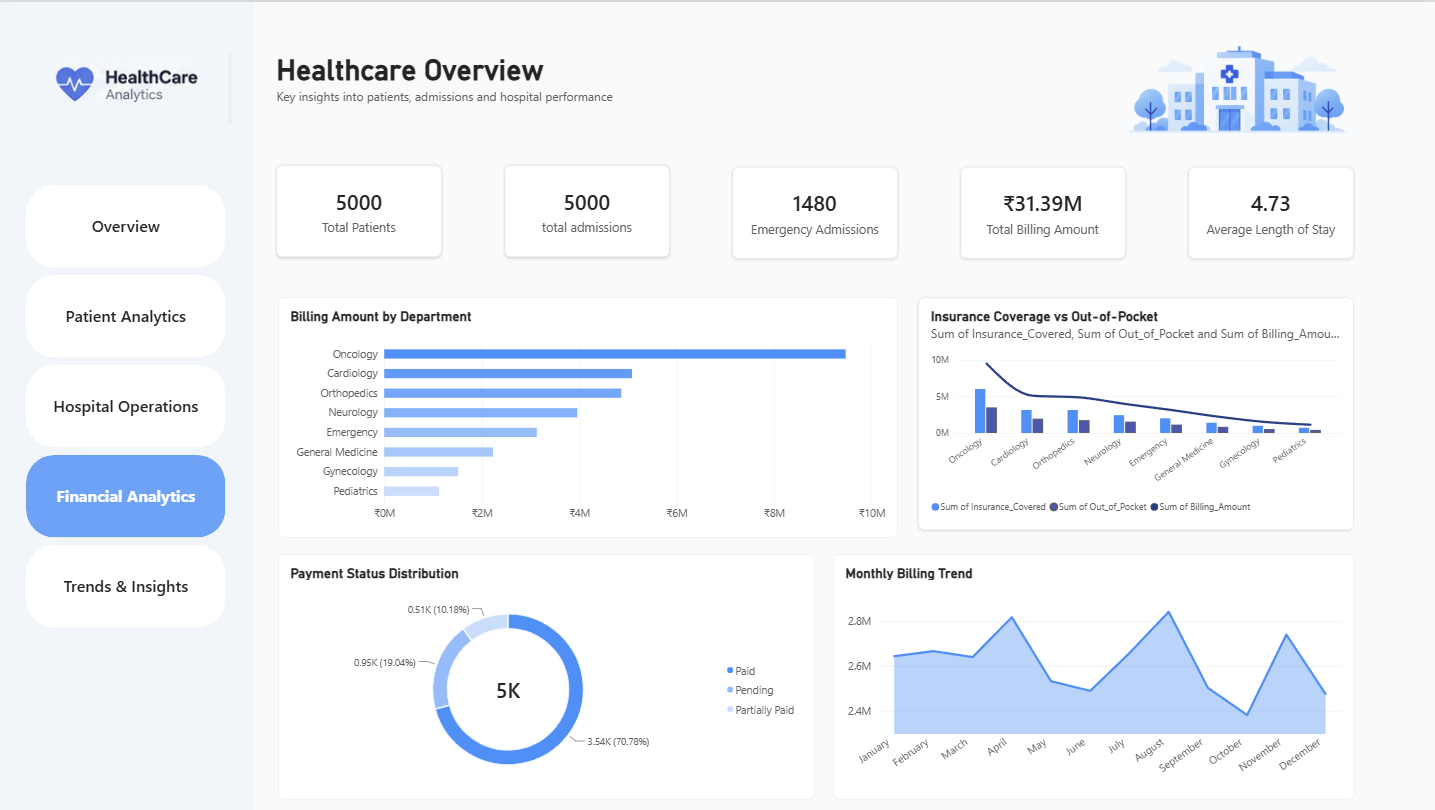

Layout of this report page (visuals, bound fields, positions):
{"tool":"powerbi","page":{"name":"Financial Analytics","canvas":[1920,1080],"ordinal":3},"visuals":[{"type":"card","fields":{"Values":["healthcare_dataset_clean.Total Patients"]},"box":[370,217.5,220,122],"z":0,"group":"g1"},{"type":"textbox","title":"Healthcare Overview","box":[370,68,550,150],"z":1000,"group":"g1"},{"type":"card","fields":{"Values":["healthcare_dataset_clean.Average Length of Stay"]},"box":[1585,220,220,122],"z":2000,"group":"g1"},{"type":"card","fields":{"Values":["healthcare_dataset_clean.Total Billing Amount"]},"box":[1281.2,220,220,122],"z":3000,"group":"g1"},{"type":"card","fields":{"Values":["healthcare_dataset_clean.total admissions"]},"box":[673.8,217.5,220,122],"z":4000,"group":"g1"},{"type":"card","fields":{"Values":["healthcare_dataset_clean.Emergency Admissions"]},"box":[977.5,220,220,122],"z":5000,"group":"g1"},{"type":"image","box":[1453.3,40,397.5,150],"z":6000,"group":"g1"},{"type":"clusteredBarChart","title":"Billing Amount by Department","fields":{"Category":["healthcare_dataset_clean.Department"],"Y":["healthcare_dataset_clean.Total Billing Amount"]},"box":[372,394,826.7,320],"z":7000,"group":"g1"},{"type":"shape","box":[0,0,340,1080],"z":8000,"group":"g1"},{"type":"lineClusteredColumnComboChart","title":"Insurance Coverage vs Out-of-Pocket","fields":{"Category":["healthcare_dataset_clean.Department"],"Y":["Sum(healthcare_dataset_clean.Insurance_Covered)","Sum(healthcare_dataset_clean.Out_of_Pocket)"],"Y2":["Sum(healthcare_dataset_clean.Billing_Amount)"]},"box":[1226.7,393.3,580,310],"z":9000,"group":"g1"},{"type":"donutChart","title":"Payment Status Distribution","fields":{"Y":["CountNonNull(healthcare_dataset_clean.Patient_ID)"],"Category":["healthcare_dataset_clean.Payment_Status"]},"box":[372.5,735,715,327.5],"z":11000,"group":"g1"},{"type":"lineChart","title":"Monthly Billing Trend","fields":{"Category":["healthcare_dataset_clean.Admission_Date.Variation.Date Hierarchy.Month"],"Y":["Sum(healthcare_dataset_clean.Billing_Amount)"]},"box":[1112.5,735,695,327.5],"z":12000,"group":"g1"},{"type":"image","box":[60,40,250,150],"z":13000,"group":"g1"},{"type":"textbox","box":[142,262,108,42],"z":14000,"group":"g1"},{"type":"pageNavigator","box":[36.7,243.3,266.7,590],"z":15000,"group":"g1"},{"type":"group","id":"g1","title":"Group 1","box":[0,0,1850.8,1080],"z":15001}]}

Visuals, with their boxes on the page's 1920x1080 design canvas (x1, y1, x2, y2). These are canvas units, not pixel positions in the 1435x810 screenshot, which may show the page scaled, cropped or inside an application window:
card - healthcare_dataset_clean.Total Patients: box(370, 218, 590, 340)
"Healthcare Overview" textbox: box(370, 68, 920, 218)
card - healthcare_dataset_clean.Average Length of Stay: box(1585, 220, 1805, 342)
card - healthcare_dataset_clean.Total Billing Amount: box(1281, 220, 1501, 342)
card - healthcare_dataset_clean.total admissions: box(674, 218, 894, 340)
card - healthcare_dataset_clean.Emergency Admissions: box(978, 220, 1198, 342)
image: box(1453, 40, 1851, 190)
"Billing Amount by Department" clusteredBarChart: box(372, 394, 1199, 714)
shape: box(0, 0, 340, 1080)
"Insurance Coverage vs Out-of-Pocket" lineClusteredColumnComboChart: box(1227, 393, 1807, 703)
"Payment Status Distribution" donutChart: box(372, 735, 1088, 1062)
"Monthly Billing Trend" lineChart: box(1112, 735, 1808, 1062)
image: box(60, 40, 310, 190)
textbox: box(142, 262, 250, 304)
pageNavigator: box(37, 243, 303, 833)
"Group 1" group: box(0, 0, 1851, 1080)
